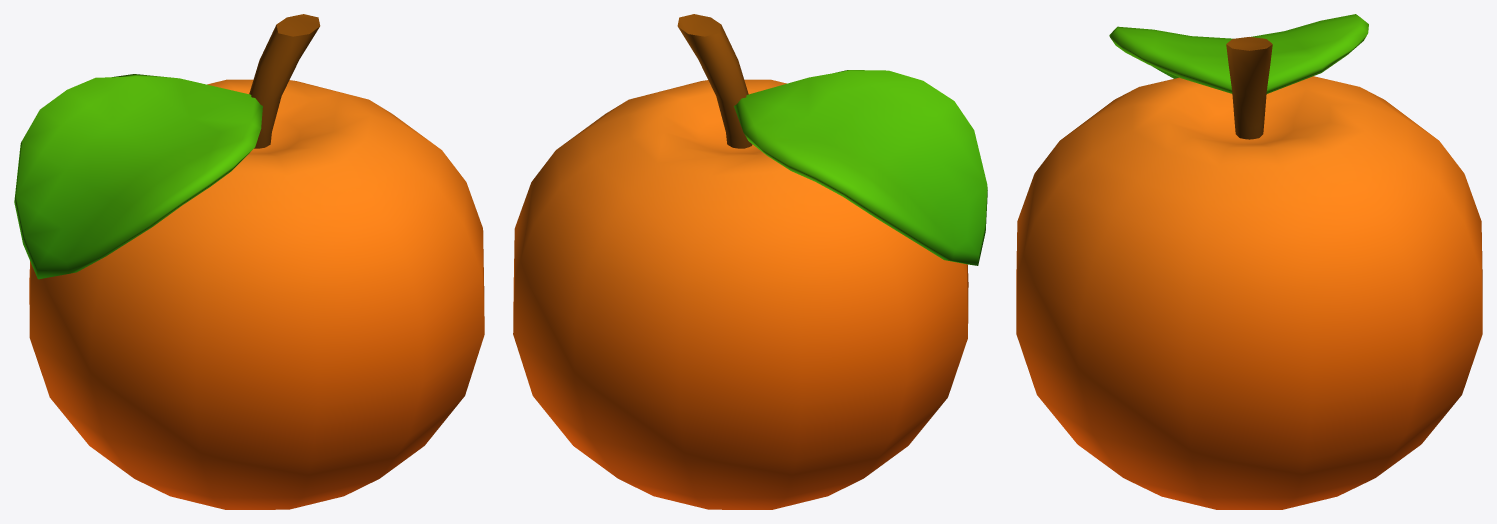
File: Farm_Tree_Product_Orange_01.fbx
The picture shows the model from 3 angles, left to right: view 1: azimuth 30°, elevation 25°; view 2: azimuth 150°, elevation 25°; view 3: azimuth 270°, elevation 25°; orthographic projection. The views are drawn at different scales.
Parts seen in each view (by area): view 1: Farm_Tree_Product_Orange_01; view 2: Farm_Tree_Product_Orange_01; view 3: Farm_Tree_Product_Orange_01.
Part boxes in pixels (x1,y1,x2,y2): Farm_Tree_Product_Orange_01: (14,14,484,509); Farm_Tree_Product_Orange_01: (513,14,987,509); Farm_Tree_Product_Orange_01: (1016,14,1482,509).
Size of the model in its own units: 32.1 by 32.13 by 29.67.
